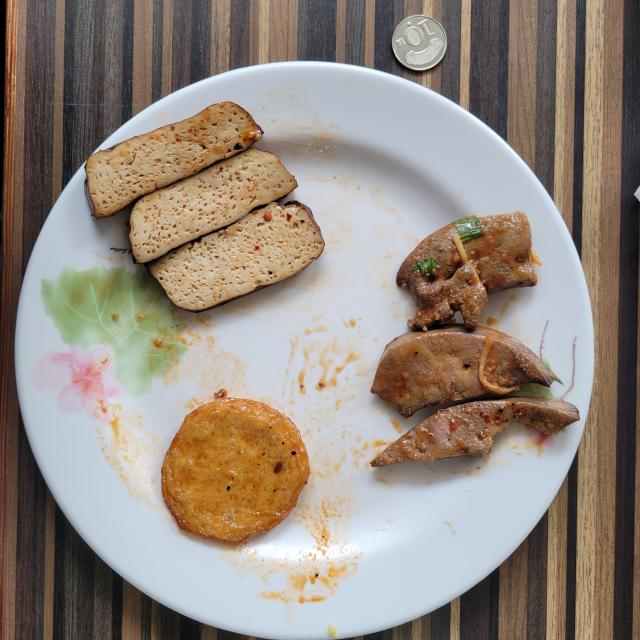coin: (391, 15, 448, 70)
firm tofu: (85, 101, 324, 311)
fish cake: (161, 398, 310, 542)
pig liver: (371, 212, 579, 466)
